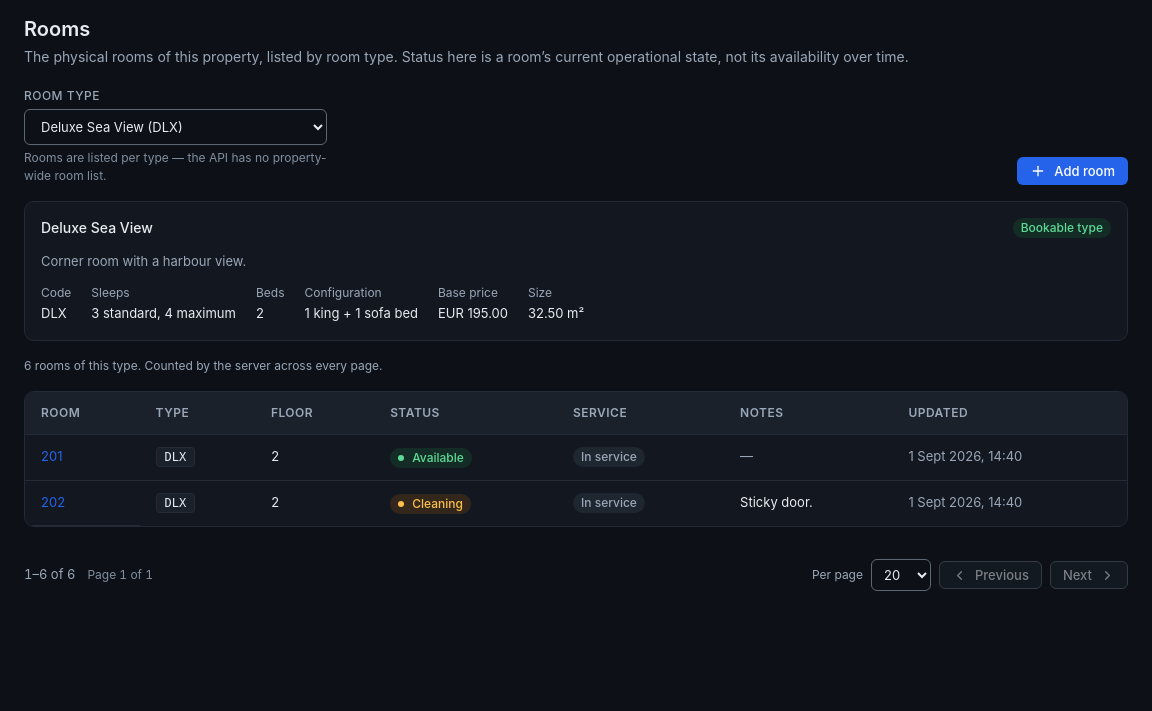
Test: creating a room › requires a number, without a request
Expected: the link "201" is shown, [41, 448, 62, 464]
Click the button "Add room": (1073, 171) [1017, 157, 1128, 185]
(page scrolled)
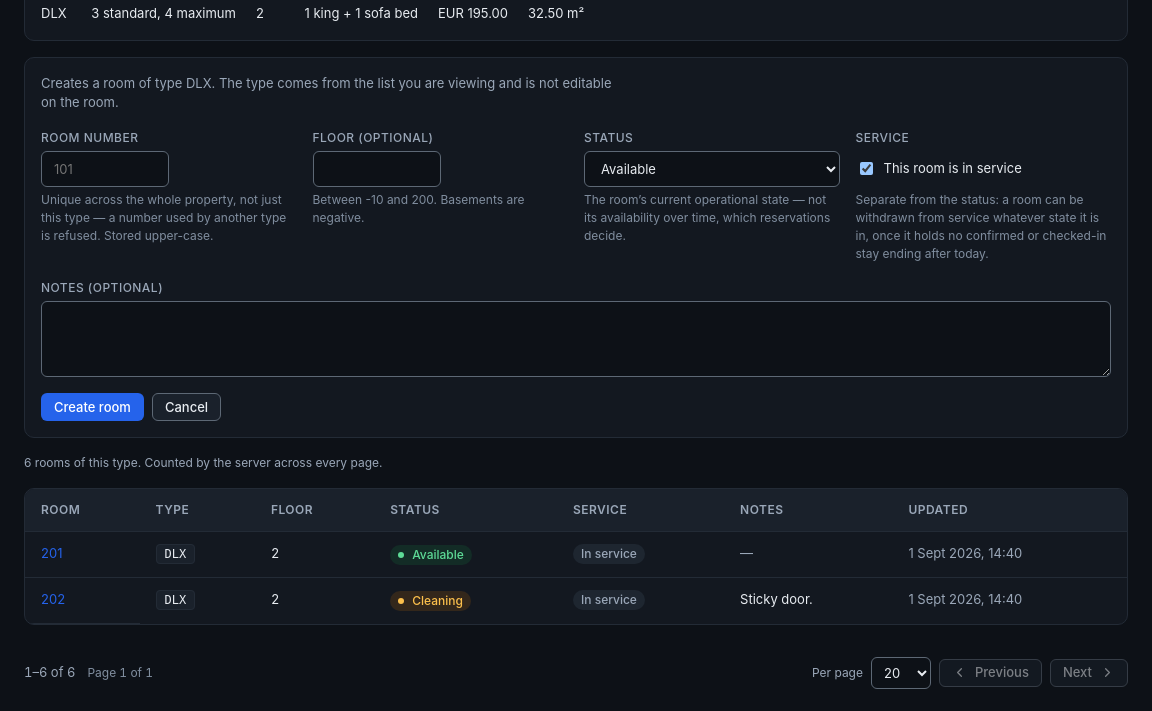
Click the button "Create room": (92, 407) [41, 393, 144, 421]
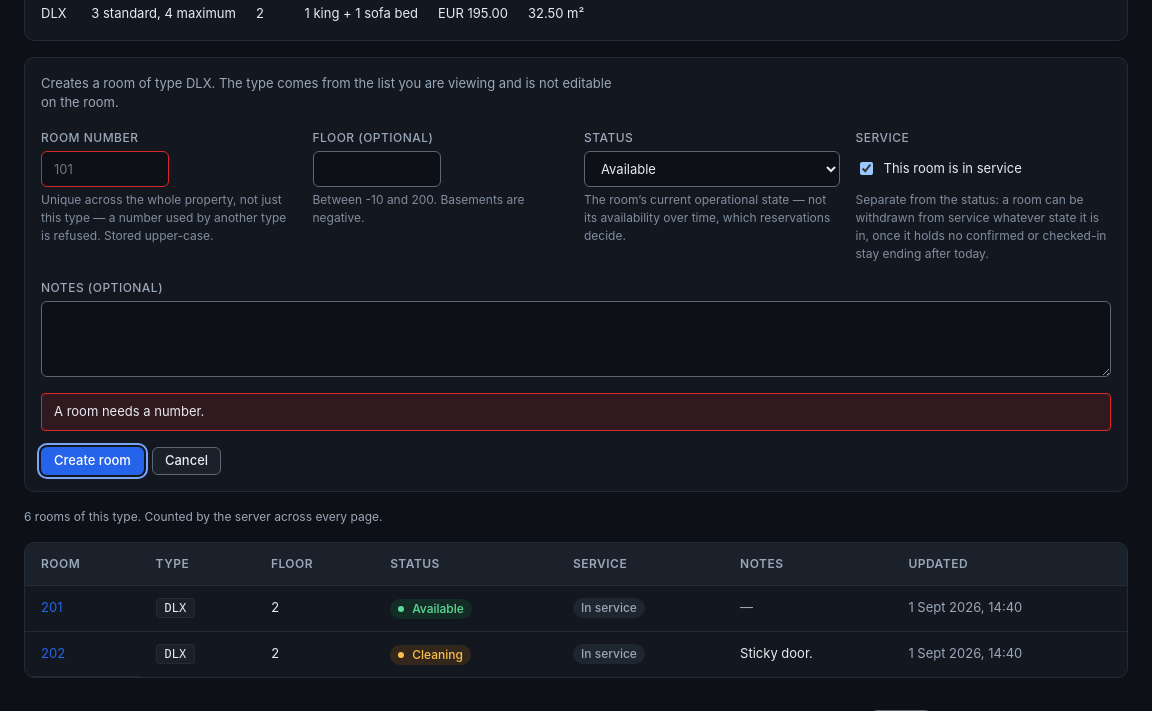
Expected: the message "A room needs a number." is shown, [41, 393, 1111, 431]
